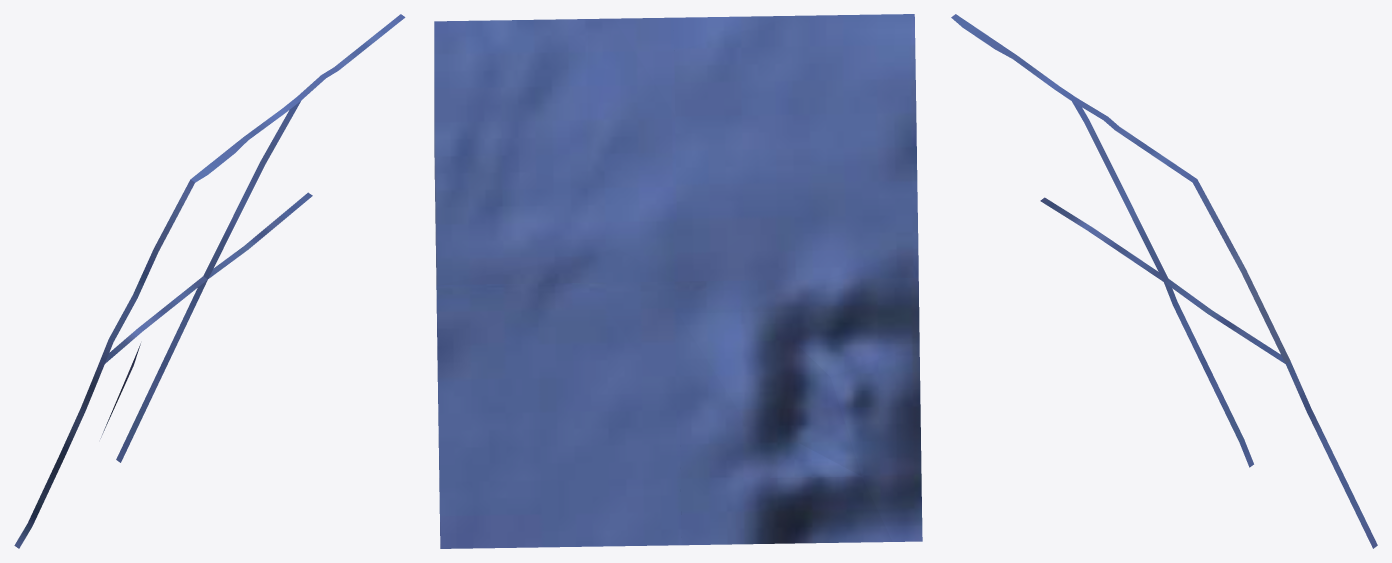
3 renders of one model, left to right at view 1: azimuth 30°, elevation 25°; view 2: azimuth 150°, elevation 25°; view 3: azimuth 270°, elevation 25°, orthographic. The views are drawn at different scales.
Bounding box in the file's own units: 19511 × 18110 × 16645.
Materials: 1 (1 with a texture image).
